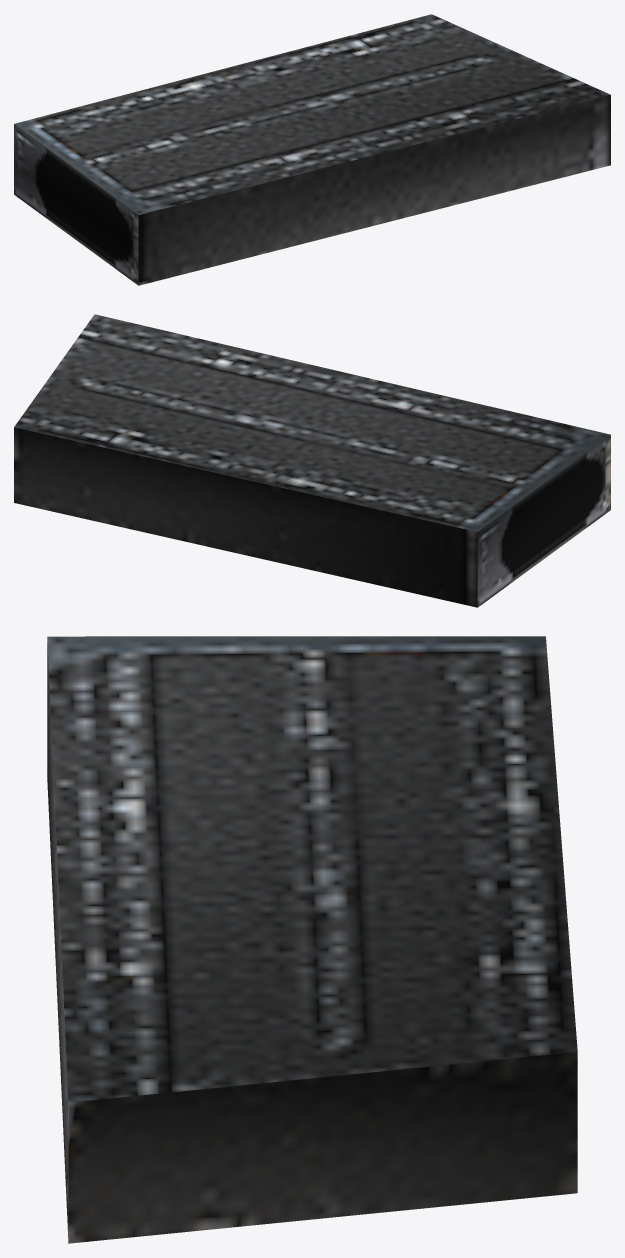
The model's file is FNFalMag.fbx.
3 views of the same model, one above another, from view 1: azimuth 30°, elevation 25°; view 2: azimuth 150°, elevation 25°; view 3: azimuth 270°, elevation 25° (orthographic). The views are drawn at different scales.
Parts seen in each view (by area): view 1: FN_FAL_LP.007; view 2: FN_FAL_LP.007; view 3: FN_FAL_LP.007.
Boxes of the visible parts, <box> form: FN_FAL_LP.007: <box>14,14,610,285</box>; FN_FAL_LP.007: <box>14,314,610,607</box>; FN_FAL_LP.007: <box>47,636,577,1243</box>.
Bounding box in the file's own units: 0.0897 × 0.0127 × 0.0431.
